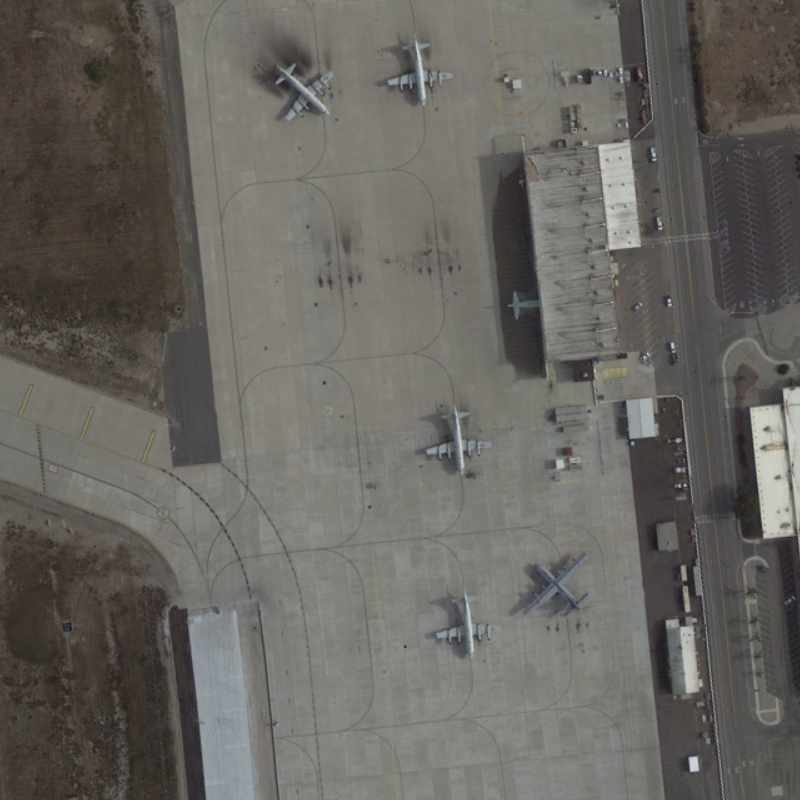A2: (517, 547, 594, 623)
A9: (381, 30, 457, 110), (422, 403, 496, 478), (432, 586, 507, 660), (266, 57, 338, 125)
